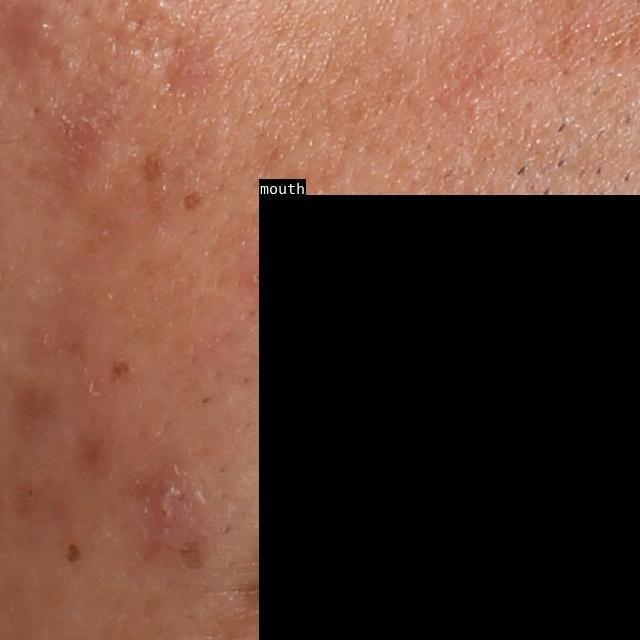papule: (132, 461, 208, 535)
